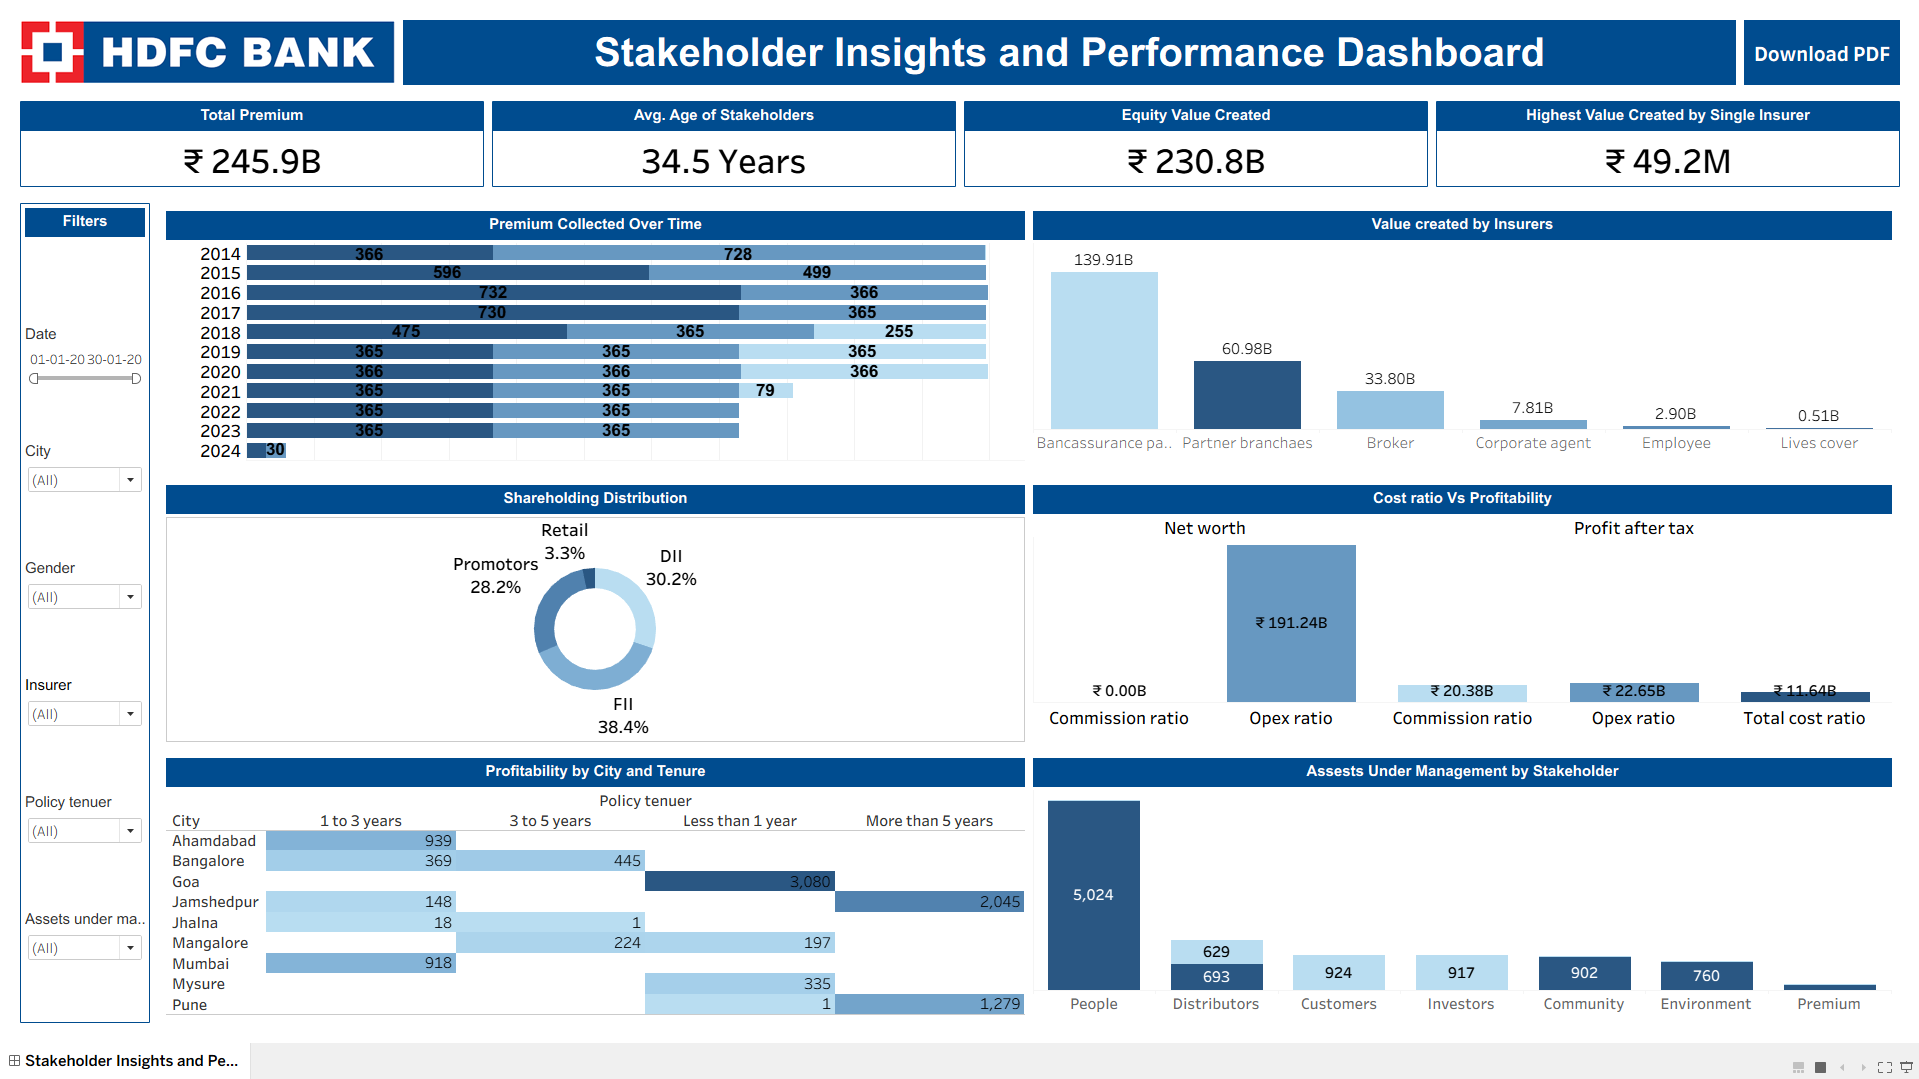

The dashboard page shown, as its layout file describes it:
{"tool":"tableau","page":{"name":"Stakeholder Insights and Performance Dashboard","canvas":[1000,1000],"units":"permille","ordinal":0},"visuals":[{"type":"image","param":"C:/Users/maahi/Downloads/download (1).png","box":[9.7,18.8,233,85.8]},{"type":"text","box":[242.7,18.8,647.8,85.8]},{"type":"dashboard-object","box":[890.5,18.8,99.8,85.8]},{"type":"worksheet","title":"Total Premium","mark":"Automatic","box":[9.7,114,245.1,110.5]},{"type":"worksheet","title":"Avg. Age of Stakeholders","mark":"Automatic","box":[254.9,114,245.1,110.5]},{"type":"worksheet","title":"Equity Value Created","mark":"Automatic","box":[500,114,245.1,110.5]},{"type":"worksheet","title":"Max Value Created by Single Insurer","mark":"Automatic","box":[745.1,114,245.1,110.5]},{"type":"worksheet","title":"Filters","mark":"Automatic","box":[12.8,239.7,77.9,105.8]},{"type":"worksheet","title":"Premium Collected Over Time","mark":"Bar","rows":["Date"],"cols":["Premium"],"box":[98.5,243.2,443.4,237.4]},{"type":"worksheet","title":"Value created by Insurers","mark":"Automatic","rows":["Value Created"],"cols":["Insurer"],"box":[542,243.2,443.4,237.4]},{"type":"filter","title":"Filters","param":"[federated.0bf6emp0709jsw14yjqln1lpfxbv].[none:Date:qk]","box":[12.8,345.5,77.9,105.8]},{"type":"filter","title":"Filters","param":"[federated.0bf6emp0709jsw14yjqln1lpfxbv].[none:City:nk]","box":[12.8,451.2,77.9,105.8]},{"type":"worksheet","title":"Shareholding Distribution","mark":"Pie","rows":["Calculation_0384286528589824","Calculation_0384286528589824"],"box":[98.5,490,443.4,236.2]},{"type":"worksheet","title":"Cost ratio Vs Profitability","mark":"Automatic","rows":["Value Created"],"cols":["Profitability","Cost ratio"],"box":[542,490,443.4,236.2]},{"type":"filter","title":"Filters","param":"[federated.0bf6emp0709jsw14yjqln1lpfxbv].[none:Gender:nk]","box":[12.8,557,77.9,104.6]},{"type":"filter","title":"Filters","param":"[federated.0bf6emp0709jsw14yjqln1lpfxbv].[none:Insurer:nk]","box":[12.8,661.6,77.9,104.6]},{"type":"worksheet","title":"Profitability by City and Tenure","mark":"Square","rows":["City"],"cols":["Policy tenuer"],"box":[98.5,735.6,443.4,236.2]},{"type":"worksheet","title":"Assests under Management by Stakeholder","mark":"Automatic","rows":["Assets under management"],"cols":["Stakeholder"],"box":[542,735.6,443.4,236.2]},{"type":"filter","title":"Filters","param":"[federated.0bf6emp0709jsw14yjqln1lpfxbv].[none:Policy tenuer:nk]","box":[12.8,766.2,77.9,104.6]},{"type":"filter","title":"Filters","param":"[federated.0bf6emp0709jsw14yjqln1lpfxbv].[none:Assets under management:nk]","box":[12.8,870.7,77.9,104.6]}]}

Visuals, with their boxes on the dashboard's canvas, which has no fixed pixel size, in thousandths of its width and height (x1, y1, x2, y2). These are canvas units, not pixel positions in the 1919x1079 screenshot, which may show the page scaled, cropped or inside an application window:
image: select_region(10, 19, 243, 105)
text: select_region(243, 19, 890, 105)
dashboard-object: select_region(890, 19, 990, 105)
"Total Premium" worksheet: select_region(10, 114, 255, 224)
"Avg. Age of Stakeholders" worksheet: select_region(255, 114, 500, 224)
"Equity Value Created" worksheet: select_region(500, 114, 745, 224)
"Max Value Created by Single Insurer" worksheet: select_region(745, 114, 990, 224)
"Filters" worksheet: select_region(13, 240, 91, 346)
"Premium Collected Over Time" worksheet (Bar marks): select_region(98, 243, 542, 481)
"Value created by Insurers" worksheet: select_region(542, 243, 985, 481)
"Filters" filter: select_region(13, 346, 91, 451)
"Filters" filter: select_region(13, 451, 91, 557)
"Shareholding Distribution" worksheet (Pie marks): select_region(98, 490, 542, 726)
"Cost ratio Vs Profitability" worksheet: select_region(542, 490, 985, 726)
"Filters" filter: select_region(13, 557, 91, 662)
"Filters" filter: select_region(13, 662, 91, 766)
"Profitability by City and Tenure" worksheet (Square marks): select_region(98, 736, 542, 972)
"Assests under Management by Stakeholder" worksheet: select_region(542, 736, 985, 972)
"Filters" filter: select_region(13, 766, 91, 871)
"Filters" filter: select_region(13, 871, 91, 975)
